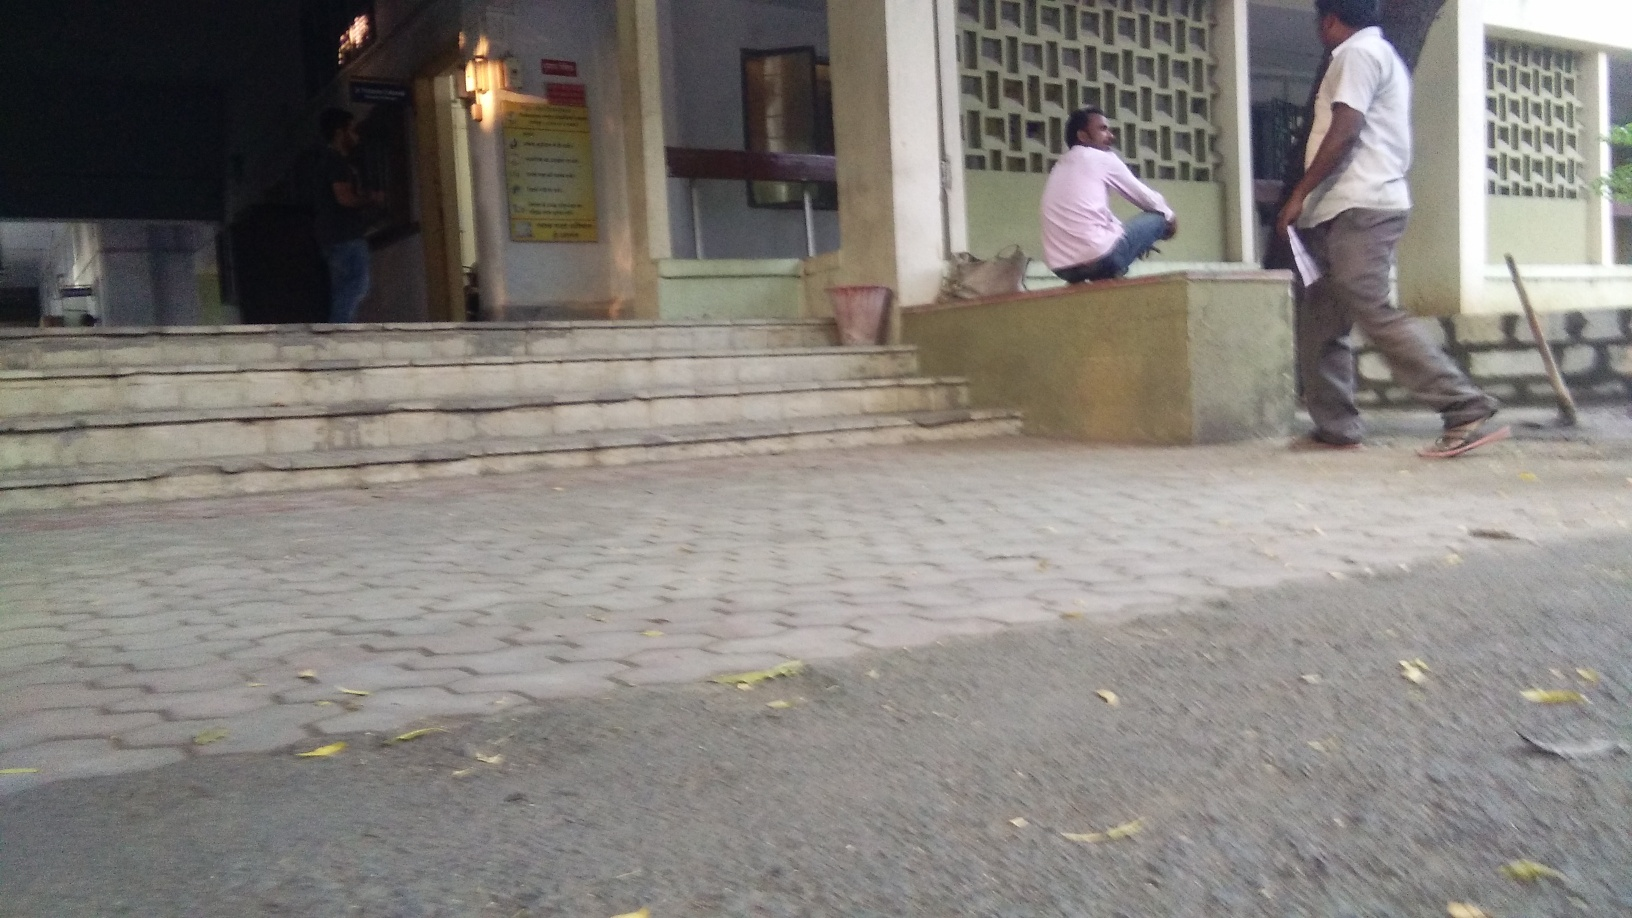stairs_up: (3, 319, 1014, 475)
